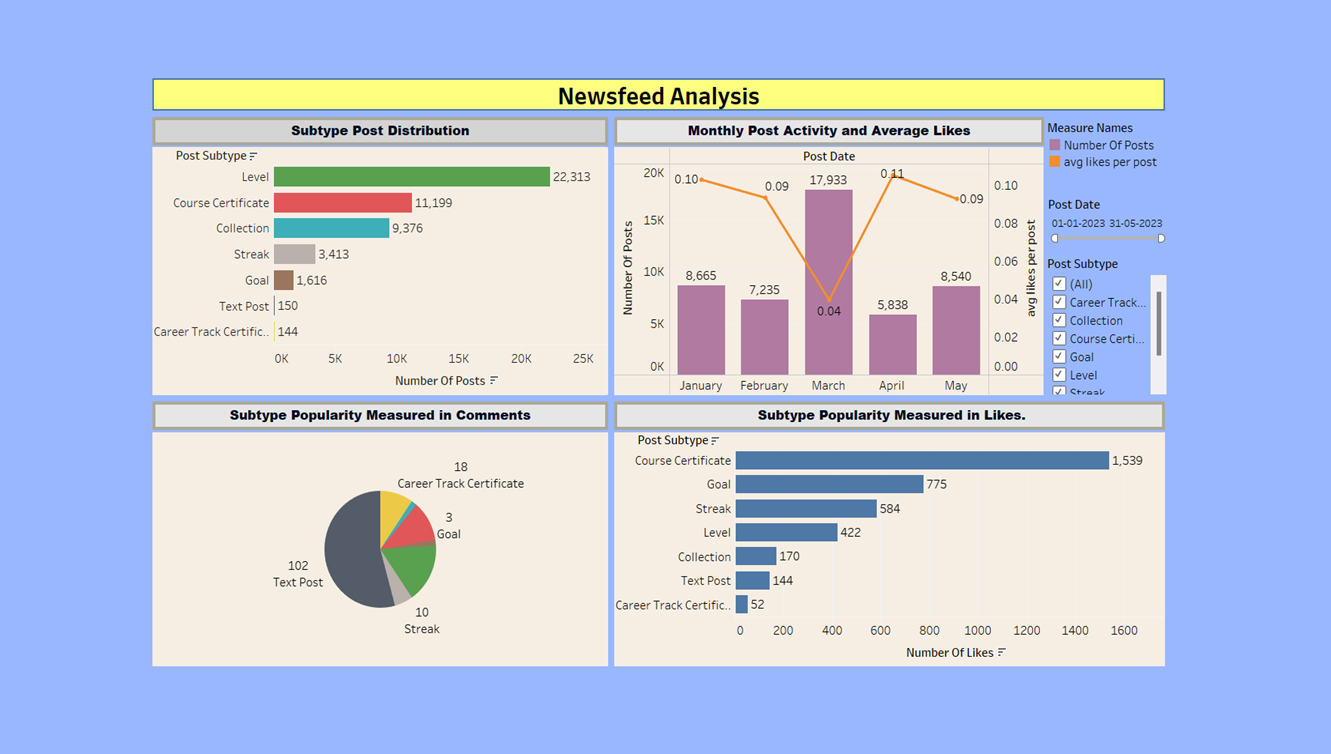

Layout of this report page (visuals, bound fields, positions):
{"tool":"tableau","page":{"name":"Dashboard 1","canvas":[1366,768],"ordinal":0},"visuals":[{"type":"title","box":[8,8,1350,49]},{"type":"worksheet","title":"Subtype Post Distribution","mark":"Bar","rows":["post_subtype"],"cols":["number_of_posts"],"box":[8,57,612,360]},{"type":"worksheet","title":"Monthly Post Activity and Average Likes","mark":"Bar","rows":["number_of_posts","Calculation_561542611422142465"],"cols":["post_date"],"box":[620,57,578,360]},{"type":"legend","title":"Monthly Post Activity and Average Likes","param":"[federated.1u2n35i1xwz2qw16idjyf1kn14rl].[:Measure Names]","box":[1198,64,156,88]},{"type":"filter","title":"Monthly Post Activity and Average Likes","param":"[federated.1u2n35i1xwz2qw16idjyf1kn14rl].[none:post_date:qk]","box":[1199,161,159,63]},{"type":"filter","title":"Monthly Post Activity and Average Likes","param":"[federated.1u2n35i1xwz2qw16idjyf1kn14rl].[none:post_subtype:nk]","box":[1198,236,158,176]},{"type":"worksheet","title":"Subtype Popularity Measured in Comments","mark":"Pie","box":[8,417,612,343]},{"type":"worksheet","title":" Subtype Popularity Measured in Likes.","mark":"Automatic","rows":["post_subtype"],"cols":["number_of_likes"],"box":[620,417,738,343]}]}

Visuals, with their boxes in screenshot pixels (x1, y1, x2, y2), scaled from the page's 1366x768 canvas onto the 1331x754 screenshot:
title: 8/8/1323/56
"Subtype Post Distribution" worksheet (Bar marks): 8/56/604/409
"Monthly Post Activity and Average Likes" worksheet (Bar marks): 604/56/1167/409
"Monthly Post Activity and Average Likes" legend: 1167/63/1319/149
"Monthly Post Activity and Average Likes" filter: 1168/158/1323/220
"Monthly Post Activity and Average Likes" filter: 1167/232/1321/404
"Subtype Popularity Measured in Comments" worksheet (Pie marks): 8/409/604/746
" Subtype Popularity Measured in Likes." worksheet: 604/409/1323/746
